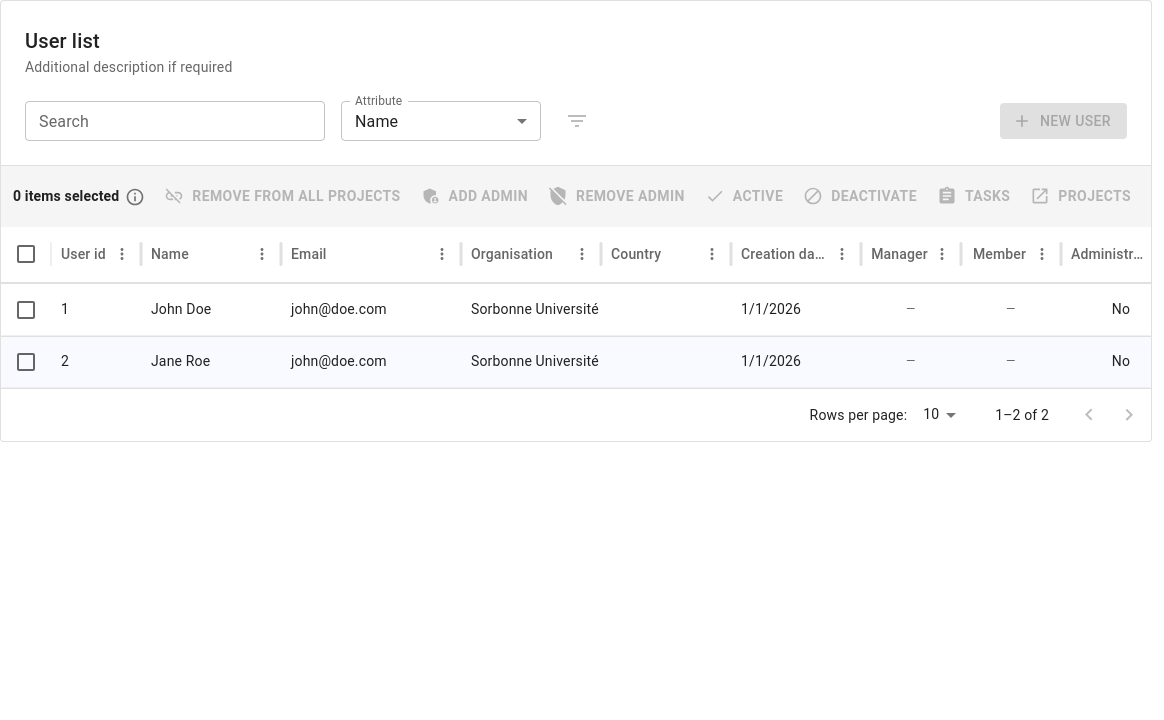
Test case: AdminUsersTab › TC-AF9: grants admin rights to the selection after confirmation
Expected: the text "Jane Roe" is shown, [141,336,281,388]
Click the checkbox named "Select row" at [26, 310], box [14,298,38,322]
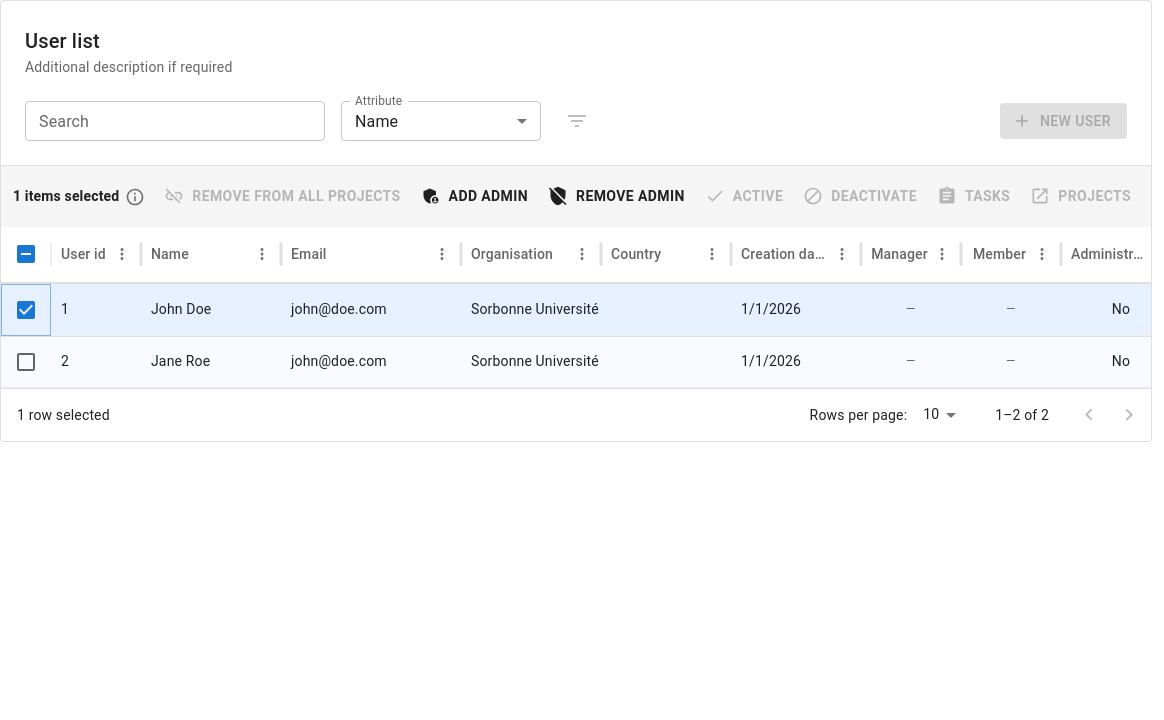
Click the checkbox named "Select row" at [26, 362], box [14,350,38,374]
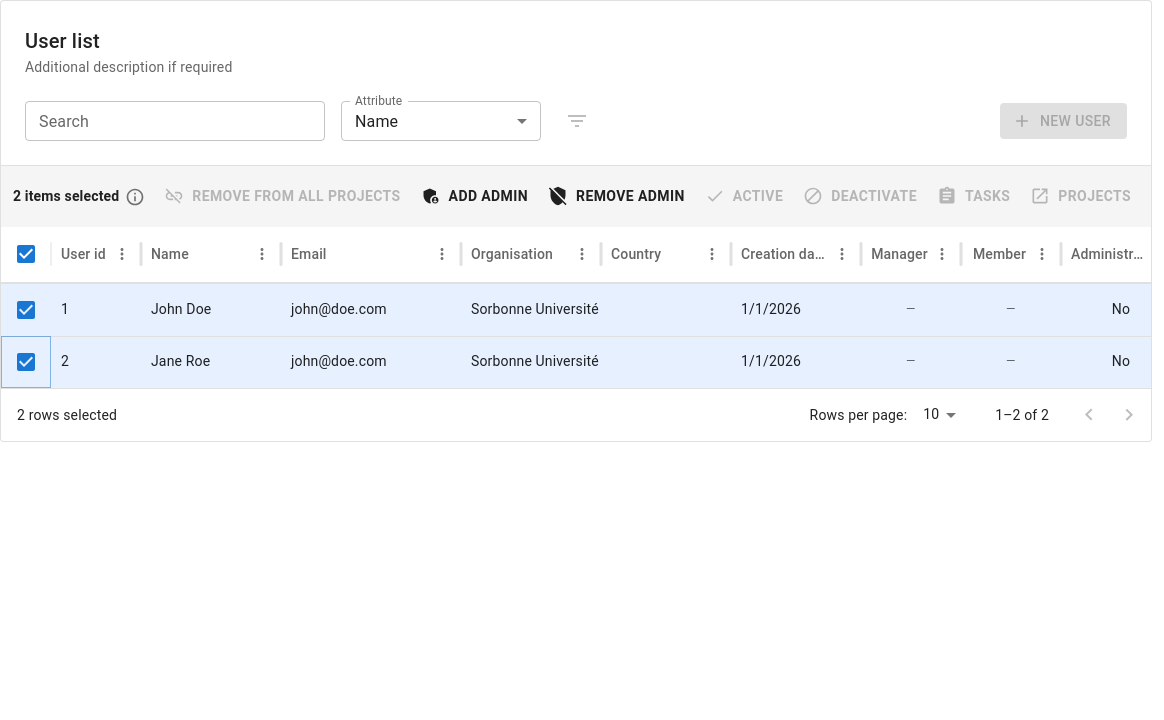
Expected: the text "2 items selected" is shown, [13,186,145,207]
Click the button "ADD ADMIN" at [476, 196], box [417,178,536,214]
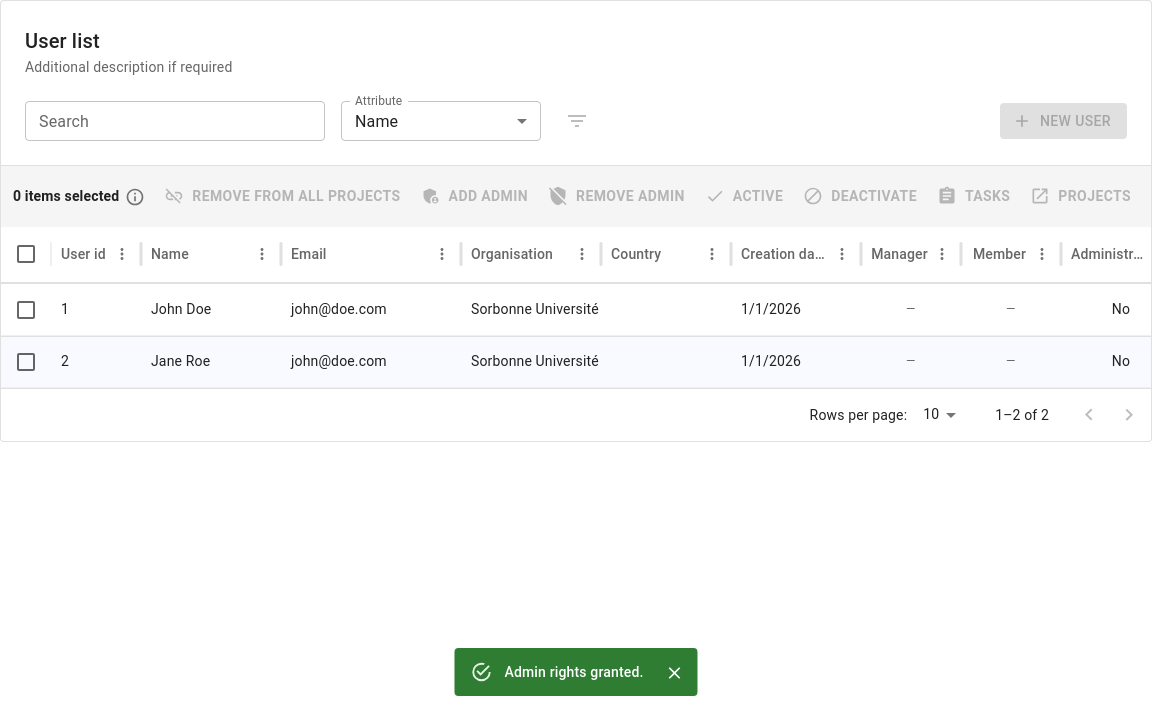
Expected: the text "Admin rights granted." is shown, [504,664,644,680]
Expected: the text "0 items selected" is shown, [13,186,145,207]
